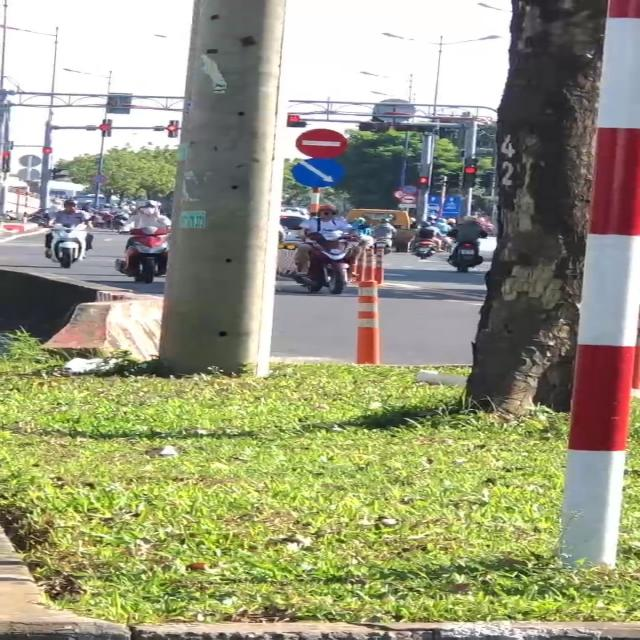Bien bao cam di nguoc chieu: (294, 128, 349, 159)
Bien bao huong phai di vong chuong ngai vat: (288, 157, 350, 190)
